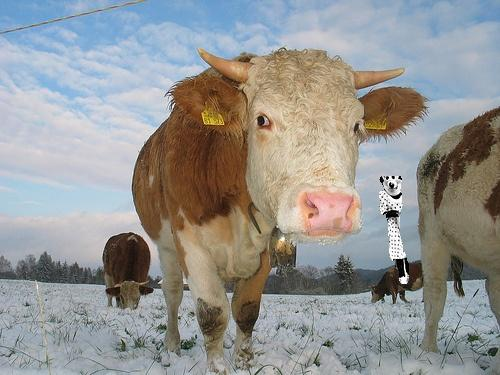tampered: (380, 177, 409, 284)
